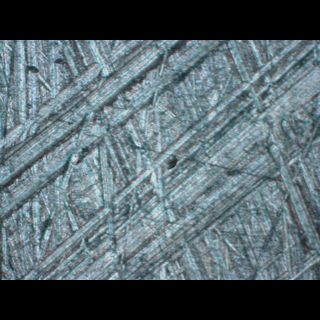d: (0, 42, 313, 279)
